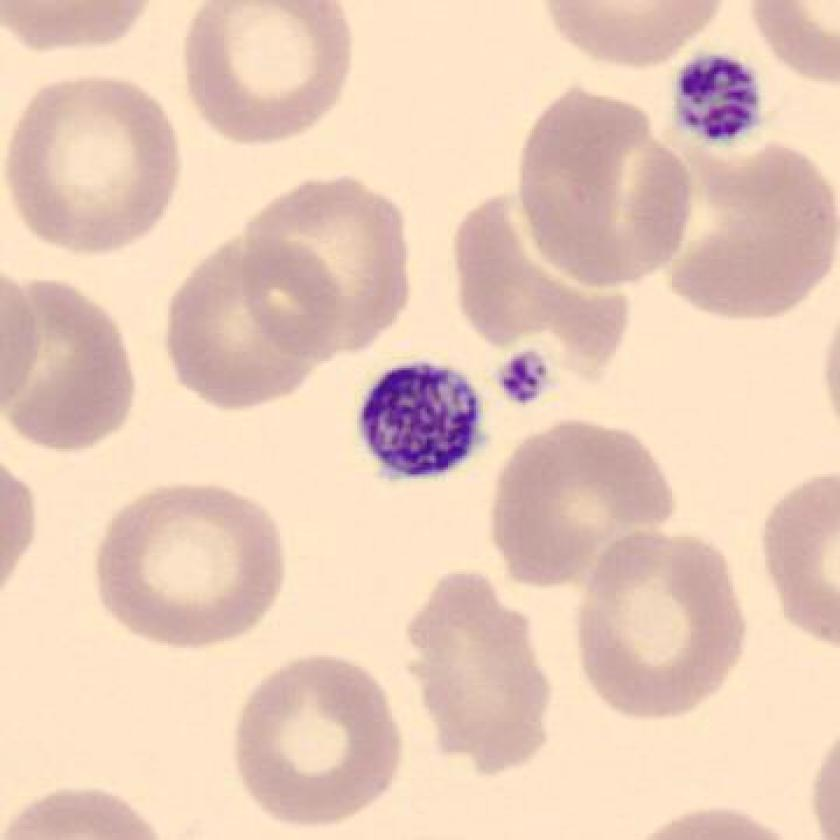platelets: (349, 346, 493, 494), (666, 45, 783, 168), (479, 328, 575, 432)
